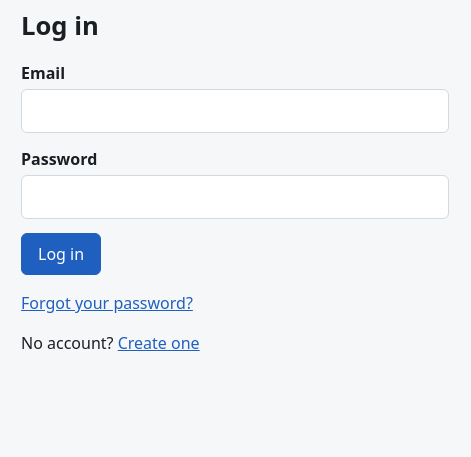
Test: login › shows a network error message when the server is unreachable
In the field labelled "Email": (235, 111) x1=21 y1=89 x2=449 y2=133, type "a@example.com"
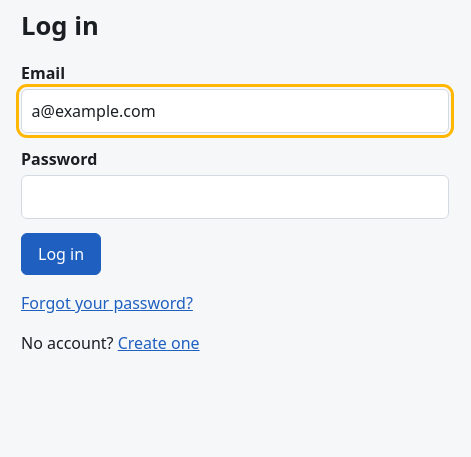
In the password field labelled "Password": (235, 197) x1=21 y1=175 x2=449 y2=219, type "whatever-pass-1"
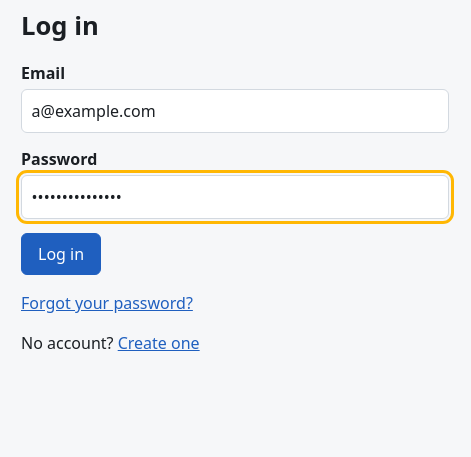
Click the button "Log in": (61, 254) x1=21 y1=233 x2=101 y2=275
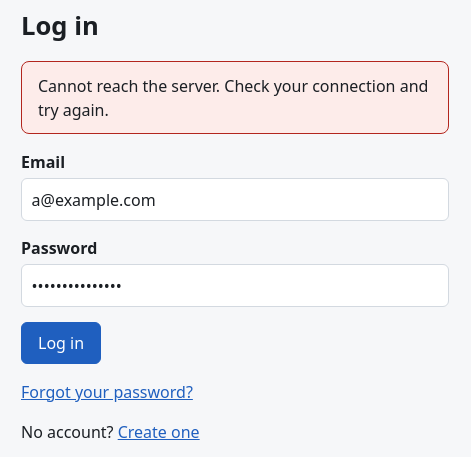
Result: the message shows "Cannot reach the server" at x1=38 y1=75 x2=428 y2=121
